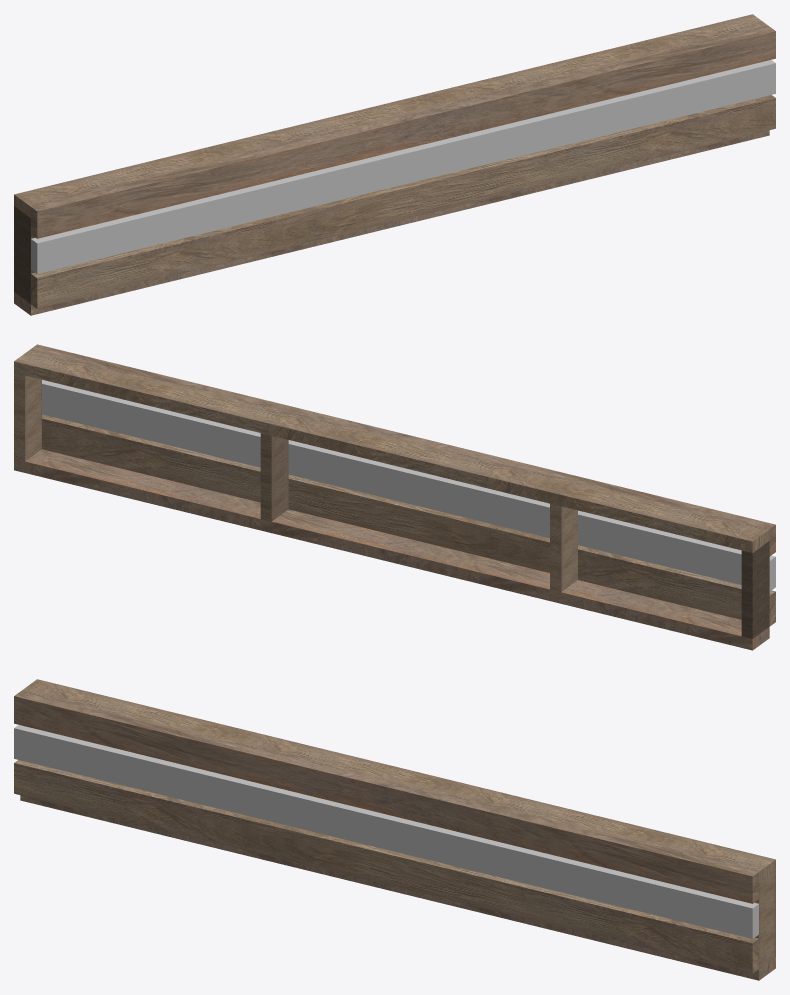
The model's file is WallFloorDividerB.fbx.
The picture shows the model from 3 angles, top to bottom: view 1: azimuth 30°, elevation 25°; view 2: azimuth 150°, elevation 25°; view 3: azimuth 330°, elevation 25°; orthographic projection.
Parts seen in each view (by area): view 1: WallFloorDividerB; view 2: WallFloorDividerB; view 3: WallFloorDividerB.
Part boxes in pixels (x1,y1,x2,y2): WallFloorDividerB: (14, 14, 775, 315); WallFloorDividerB: (14, 344, 775, 650); WallFloorDividerB: (14, 679, 775, 980).
Size of the model in its own units: 404 by 56.94 by 22.
